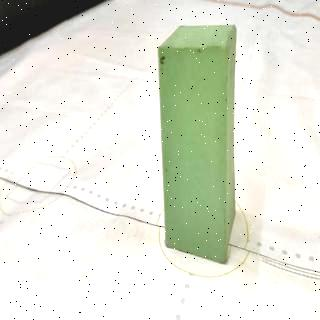greenbox: (158, 23, 238, 265)
